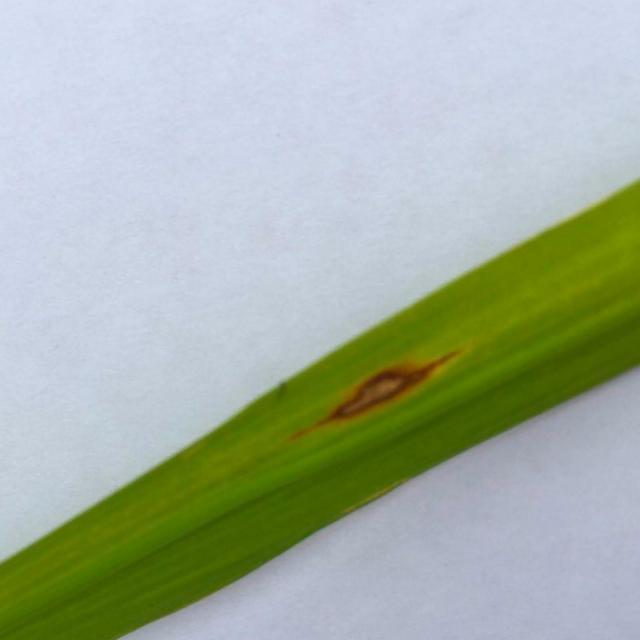Leaf_Blast: (326, 365, 451, 424)
